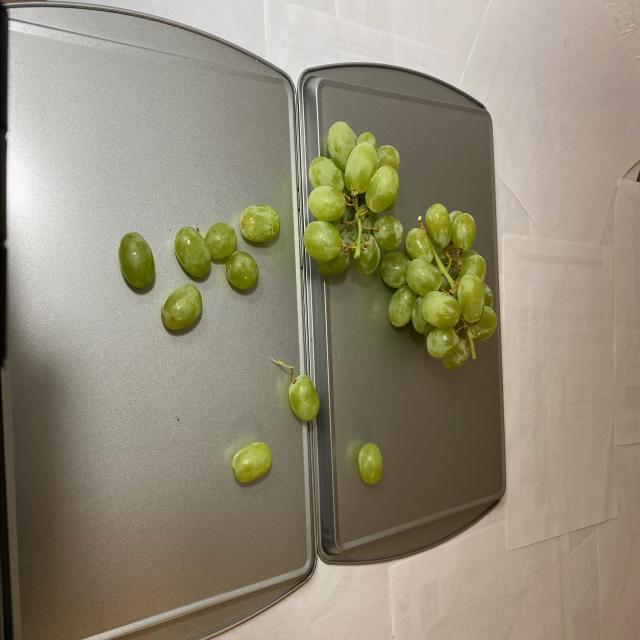grapes: (306, 122, 497, 368), (118, 204, 280, 330), (232, 374, 385, 490)
